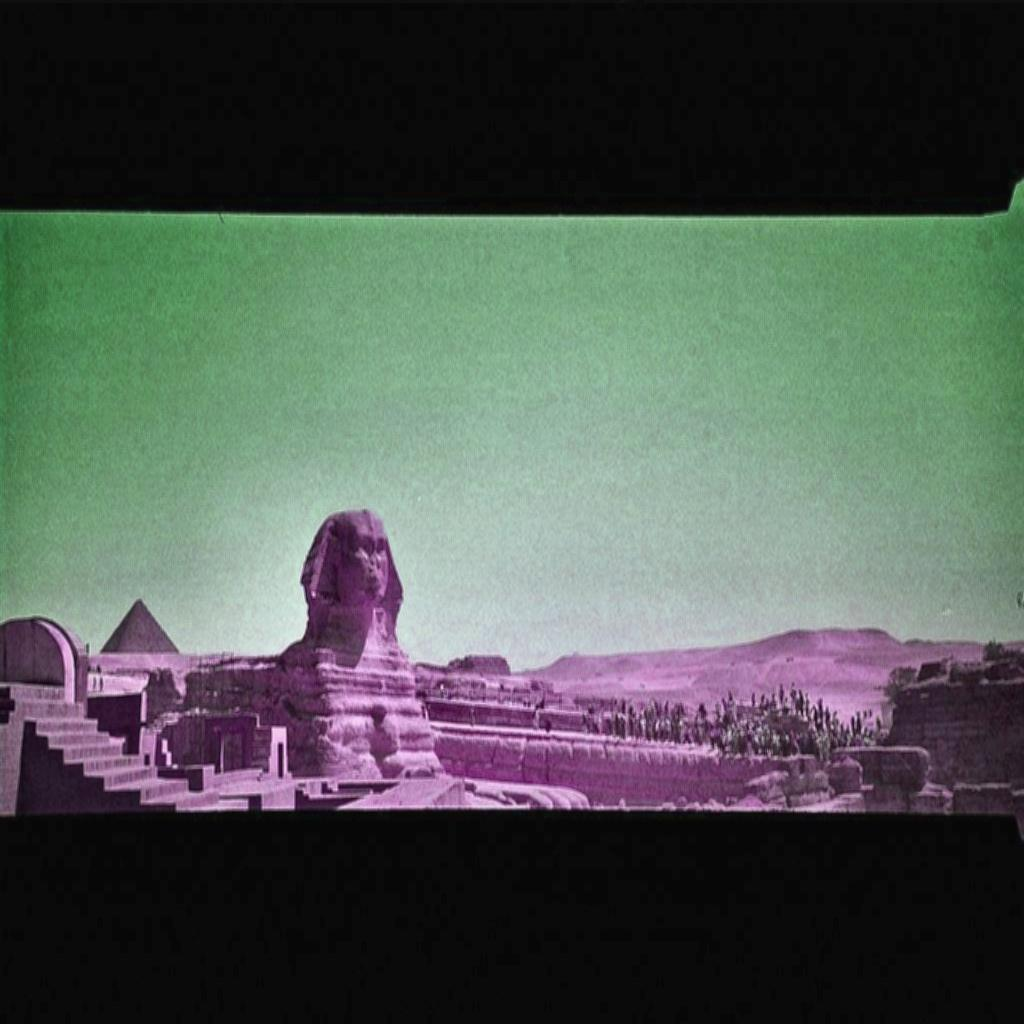Sphinx: (275, 505, 447, 781)
